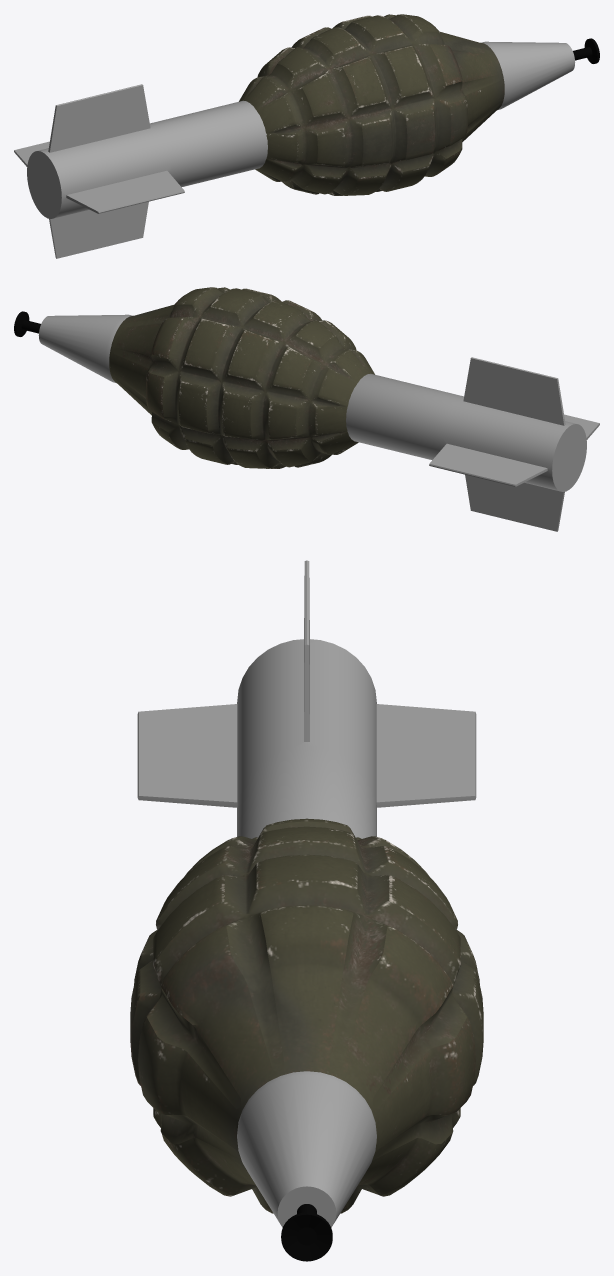
File: MK2 Grenade drone bomb.fbx
3 renders of one model, top to bottom at view 1: azimuth 30°, elevation 25°; view 2: azimuth 150°, elevation 25°; view 3: azimuth 270°, elevation 25°, orthographic. The views are drawn at different scales.
Visible parts, largest first — view 1: MK2 Grenade; view 2: MK2 Grenade; view 3: MK2 Grenade.
Boxes of the visible parts, box(x1,y1,x2,y2) form: MK2 Grenade: box(14, 14, 599, 258); MK2 Grenade: box(14, 287, 599, 531); MK2 Grenade: box(130, 560, 483, 1261).
Bounding box in the file's own units: 19.31 × 5.38 × 5.38.
